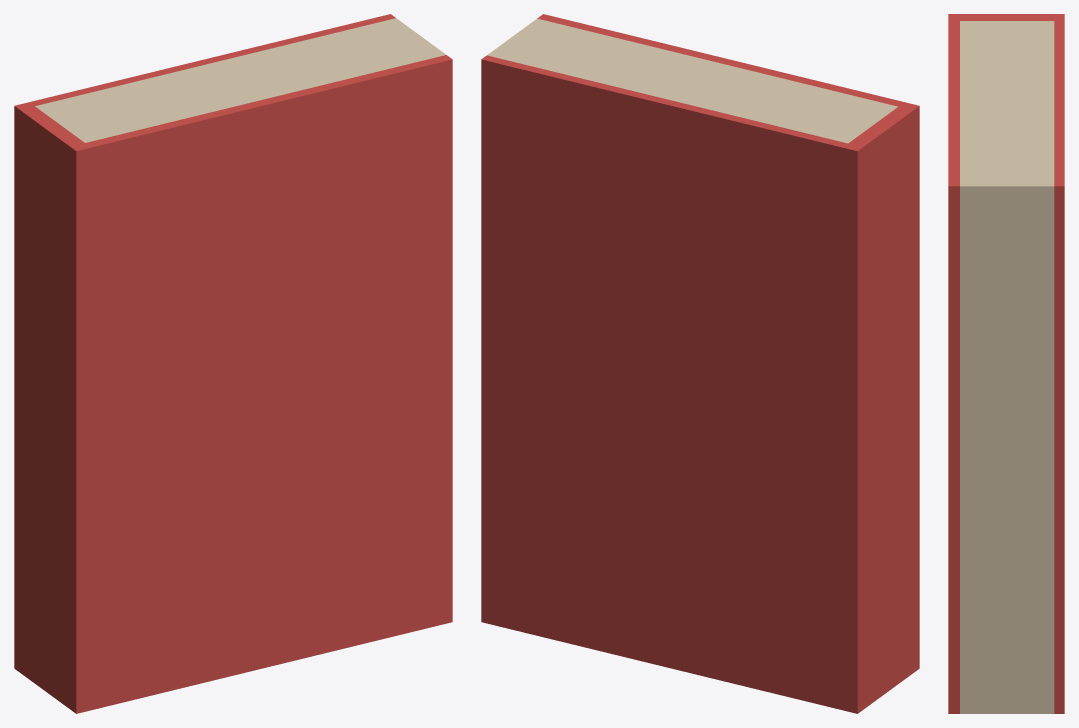
The model's file is Books_1.fbx.
The picture shows the model from 3 angles, left to right: view 1: azimuth 30°, elevation 25°; view 2: azimuth 150°, elevation 25°; view 3: azimuth 270°, elevation 25°; orthographic projection. The views are drawn at different scales.
Visible parts, largest first — view 1: pCube211; view 2: pCube211; view 3: pCube211.
Part boxes in pixels (x1=…): pCube211: x1=14, y1=14, x2=452, y2=713; pCube211: x1=481, y1=14, x2=919, y2=713; pCube211: x1=948, y1=14, x2=1064, y2=713.
Bounding box in the file's own units: 0.35 × 0.5 × 0.1.
Materials: 1 (1 with a texture image).
